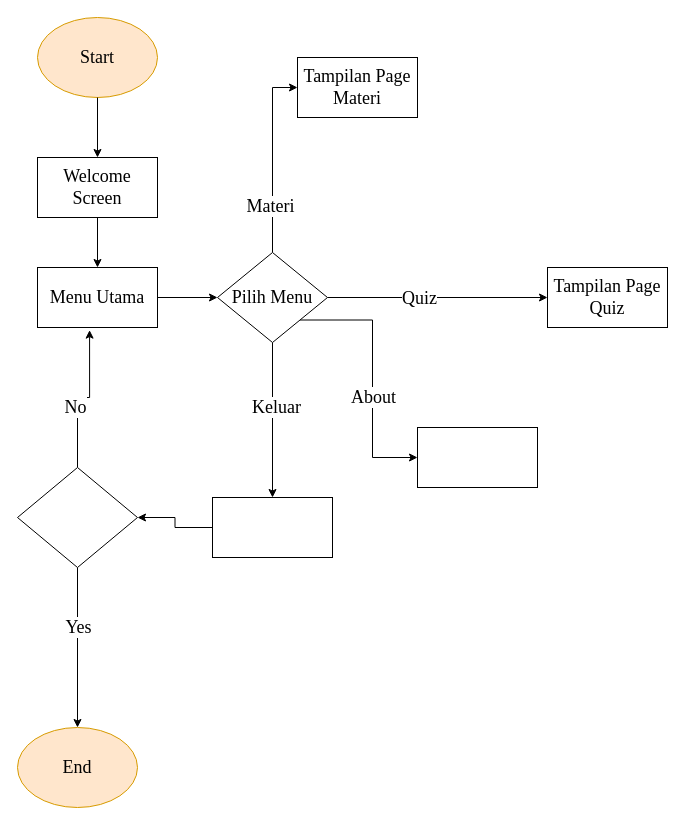
This 685x825 diagram has some shape labels left out. Here are the shapes that lost their labels. From the top down, the centre of each, then its label:
pixel 477 457: Tampilan Page About
pixel 77 517: Keluar Aplikasi
pixel 272 527: Pop Up Keluar
